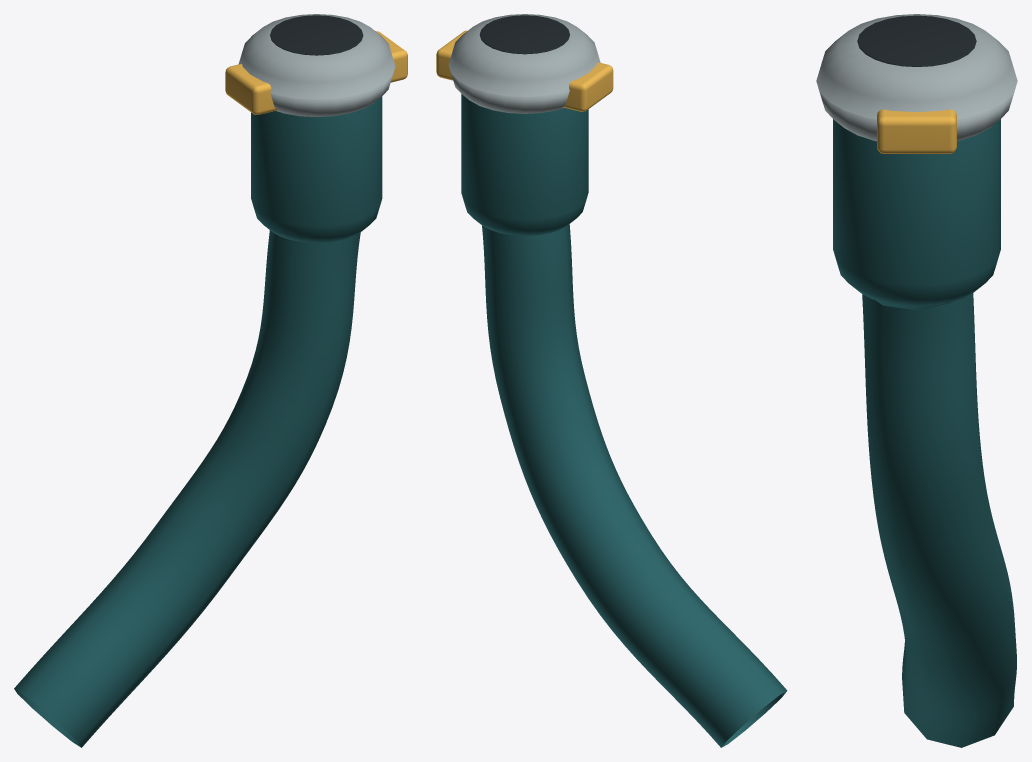
Rendered from CouplingPlug.fbx.
3 renders of one model, left to right at view 1: azimuth 30°, elevation 25°; view 2: azimuth 150°, elevation 25°; view 3: azimuth 270°, elevation 25°, orthographic. The views are drawn at different scales.
Visible parts, largest first — view 1: FlexibleHose, PlugBody, JoiningCollar, JoiningBore, BajonetLug; view 2: FlexibleHose, PlugBody, JoiningCollar, JoiningBore, BajonetLug; view 3: FlexibleHose, PlugBody, JoiningCollar, JoiningBore, BajonetLug.001.
Boxes of the visible parts, left/top/right/bottom form: FlexibleHose: left=14, top=230, right=360, bottom=747; PlugBody: left=251, top=96, right=382, bottom=242; JoiningCollar: left=238, top=14, right=395, bottom=117; JoiningBore: left=270, top=15, right=363, bottom=55; BajonetLug: left=225, top=63, right=277, bottom=114; FlexibleHose: left=482, top=224, right=787, bottom=747; PlugBody: left=461, top=94, right=588, bottom=235; JoiningCollar: left=448, top=14, right=600, bottom=113; JoiningBore: left=479, top=15, right=569, bottom=54; BajonetLug: left=563, top=62, right=613, bottom=111; FlexibleHose: left=862, top=293, right=1016, bottom=747; PlugBody: left=833, top=119, right=1000, bottom=306; JoiningCollar: left=816, top=14, right=1017, bottom=141; JoiningBore: left=857, top=15, right=976, bottom=66; BajonetLug.001: left=877, top=109, right=956, bottom=153.
Bounding box in the file's own units: 28.18 × 50.23 × 10.8.
